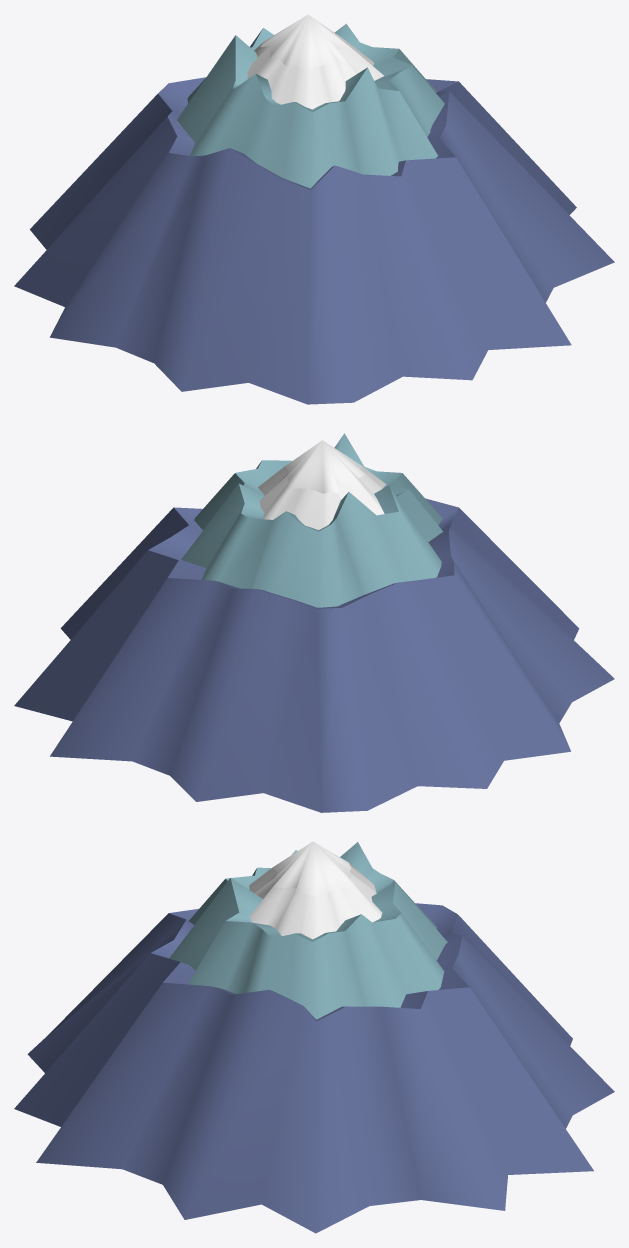
Rendered from nevadoModel_2.glb.
3 views of the same model, one above another, from view 1: azimuth 30°, elevation 25°; view 2: azimuth 150°, elevation 25°; view 3: azimuth 270°, elevation 25° (orthographic). The views are drawn at different scales.
Parts seen in each view (by area): view 1: pCylinder7; view 2: pCylinder7; view 3: pCylinder7.
Part boxes in pixels (x1,y1,x2,y2): pCylinder7: (14, 14, 614, 404); pCylinder7: (14, 433, 614, 812); pCylinder7: (14, 841, 614, 1233).
Size of the model in its own units: 0.4145 by 0.1949 by 0.4079.
